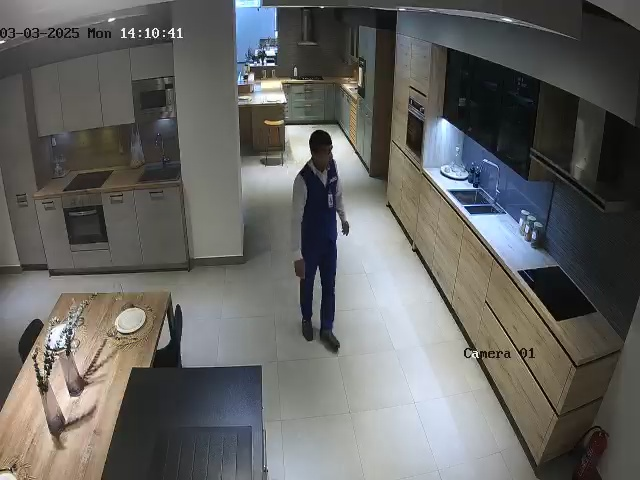employee: (290, 129, 350, 351)
